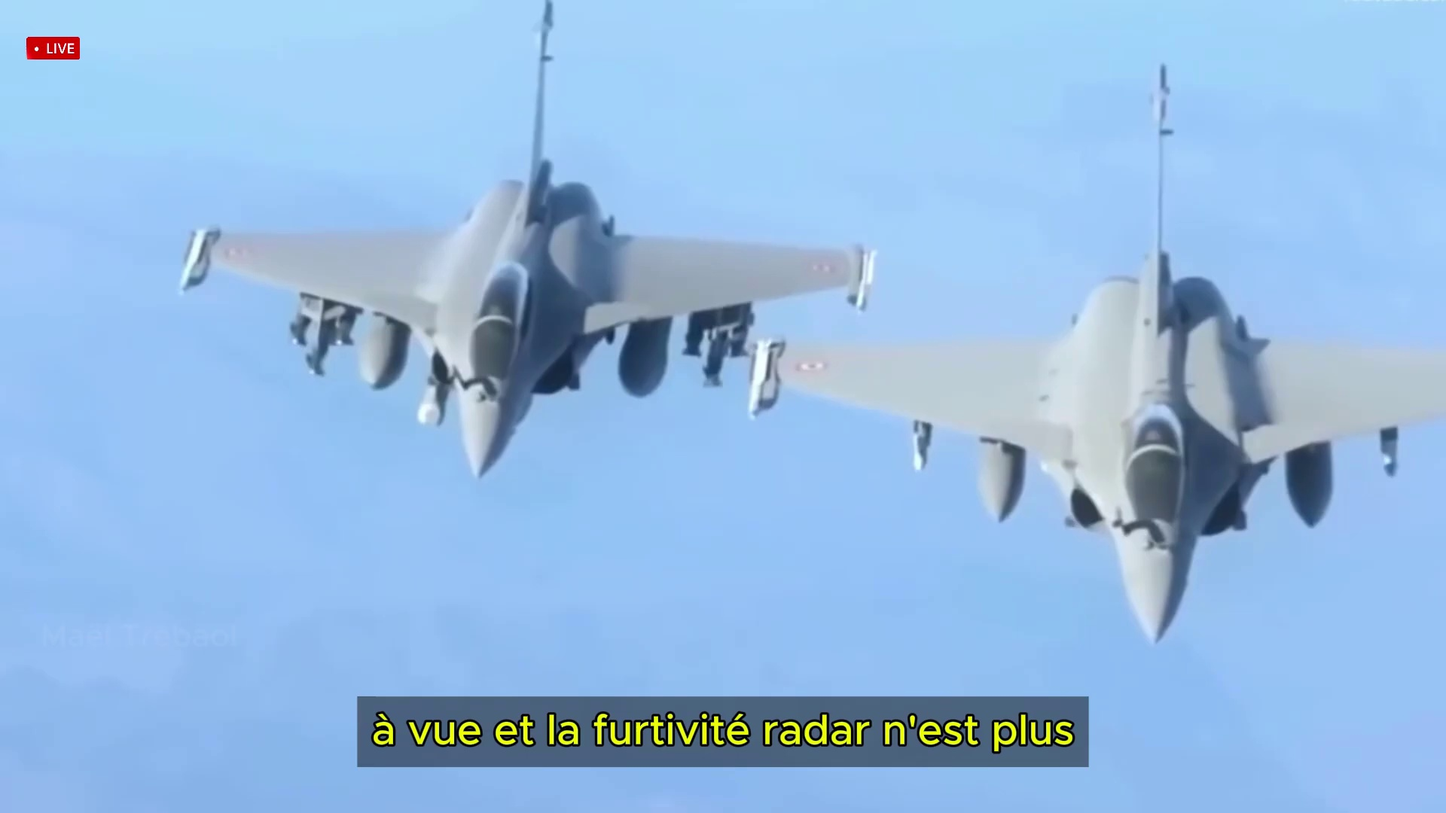Rafale: (761, 65, 1446, 648), (183, 0, 859, 483)
